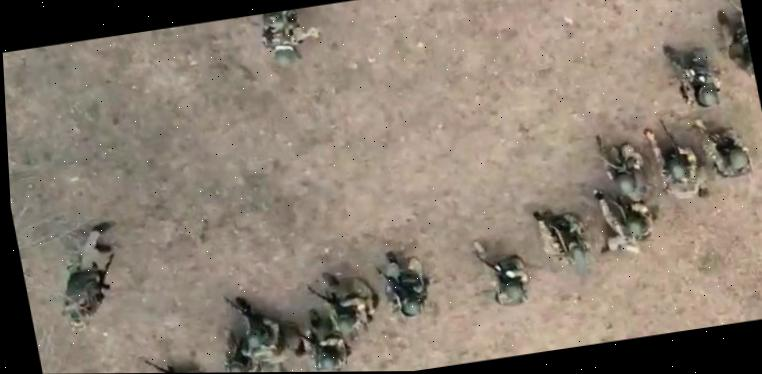person: (43, 220, 131, 333), (222, 285, 307, 367), (641, 113, 711, 204), (304, 264, 384, 338), (586, 180, 657, 254), (371, 245, 436, 322), (660, 37, 726, 112), (254, 4, 330, 68), (470, 233, 533, 310), (593, 128, 656, 204), (691, 111, 752, 182), (293, 304, 355, 372), (531, 204, 594, 267), (215, 320, 289, 373), (715, 5, 757, 87), (686, 0, 746, 38), (143, 350, 221, 373)
